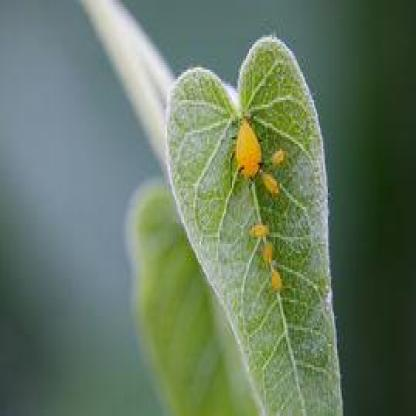aphid: (228, 113, 265, 189), (256, 166, 284, 201), (266, 264, 286, 299), (260, 238, 279, 271), (246, 218, 268, 241), (270, 146, 286, 167)
